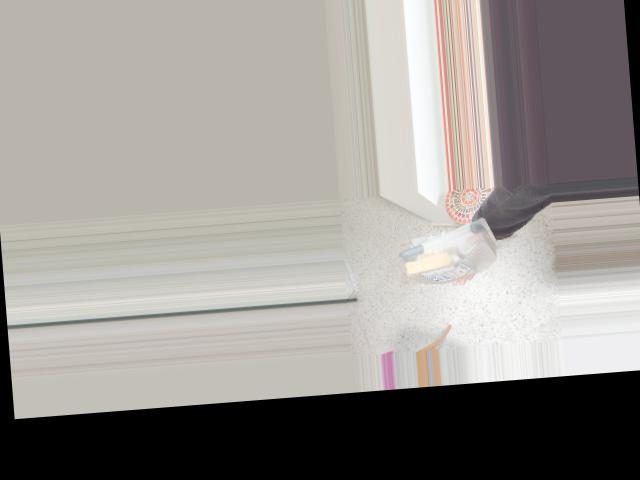cheese: (393, 209, 498, 287)
